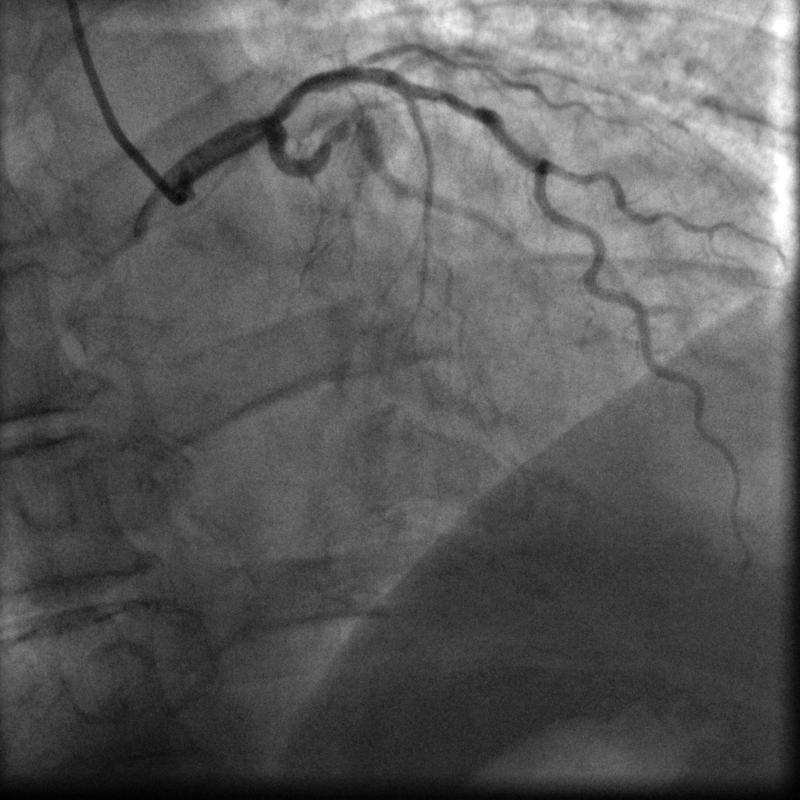Stenosis: (326, 111, 367, 135)
